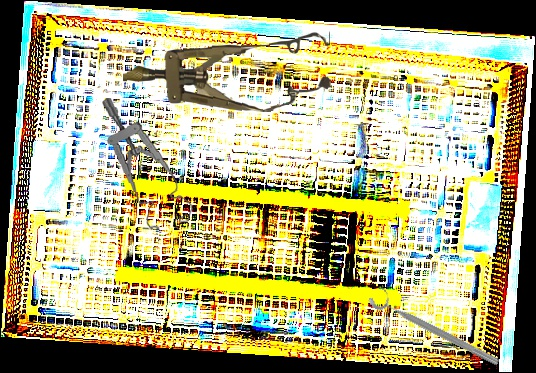Fixation Ring: (366, 283, 506, 370)
Speculum: (121, 29, 333, 117), (100, 90, 196, 235)
